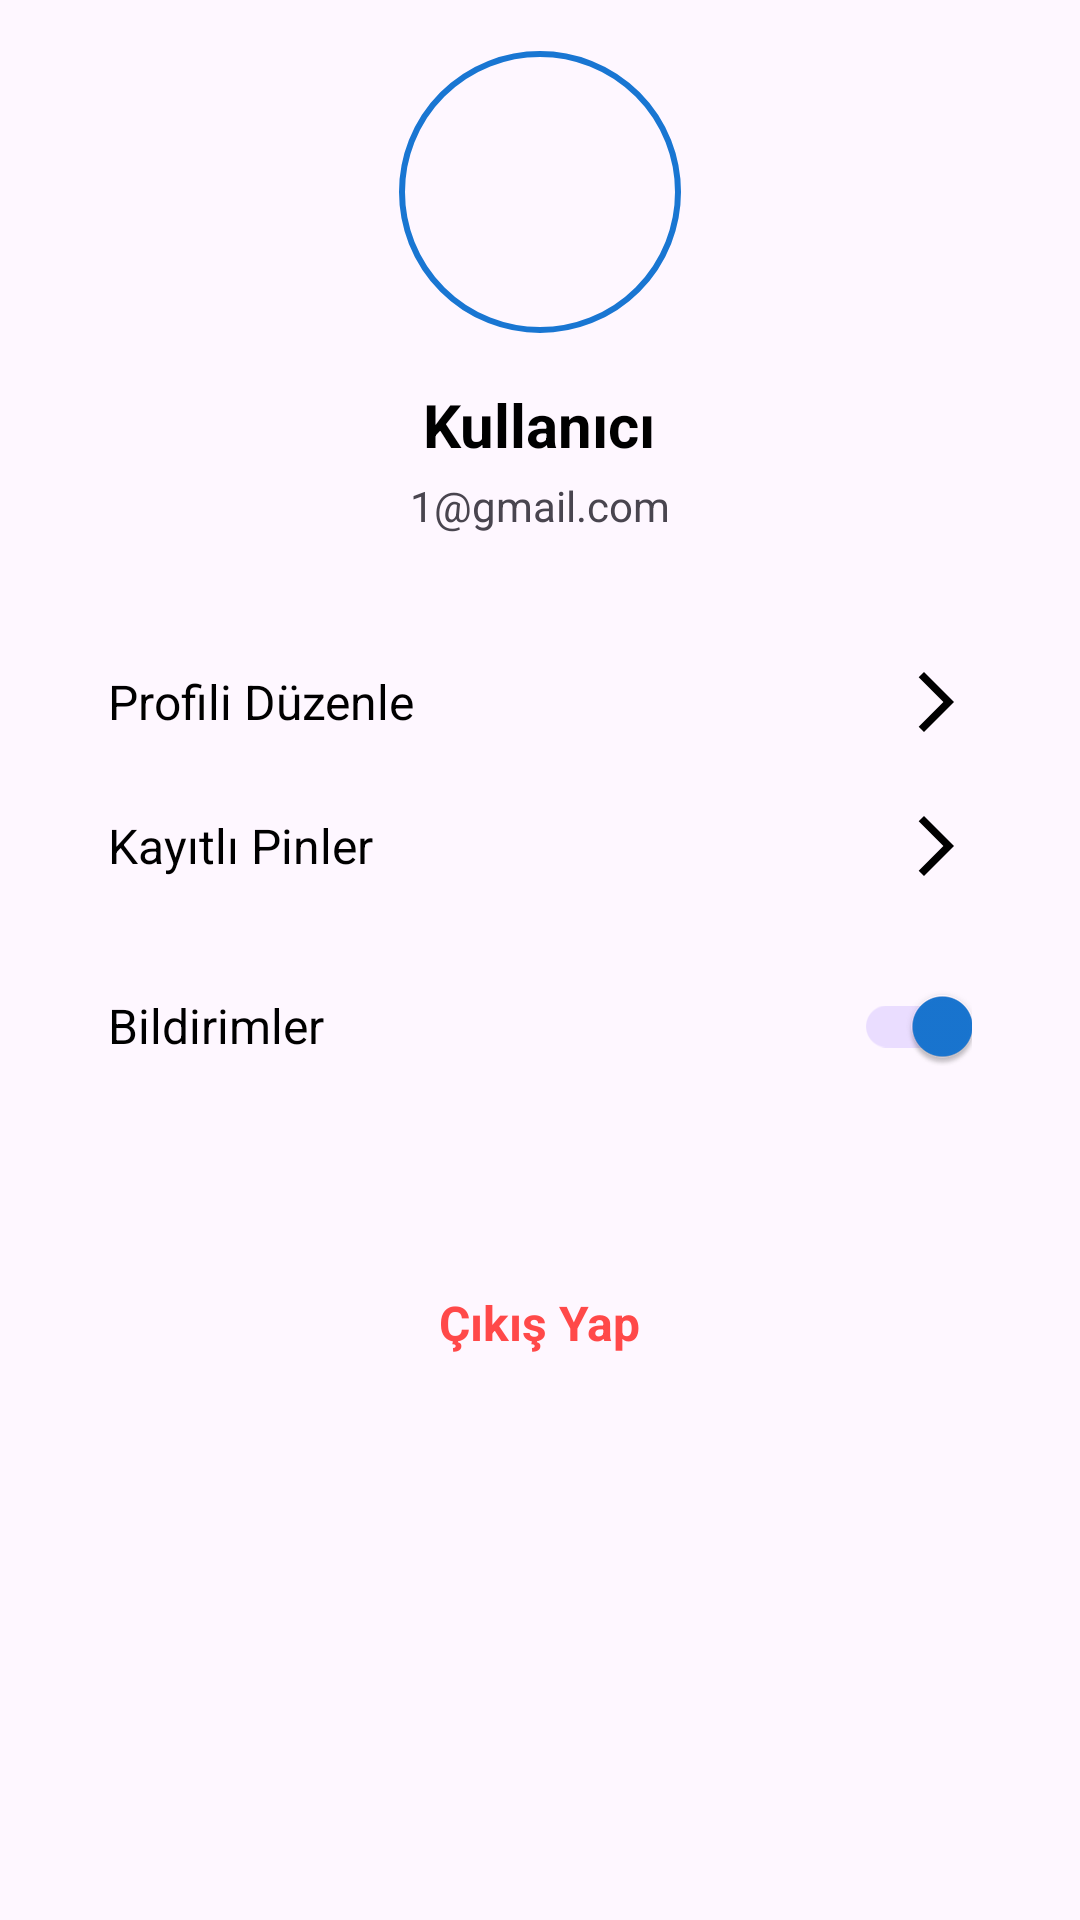

Screen size 1080x1920. Icon name, then its box in pixels as (x1, y1, x2, y2):
sag ok: (919, 672, 954, 732), (919, 816, 954, 876)
